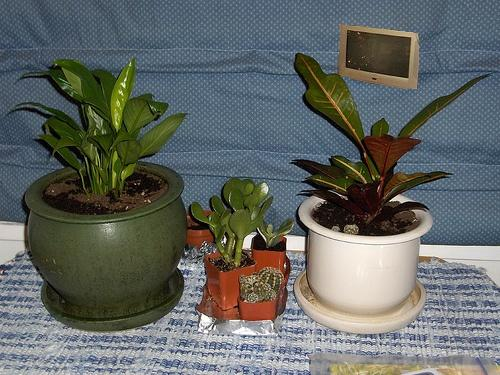tampered: (338, 25, 419, 89)
